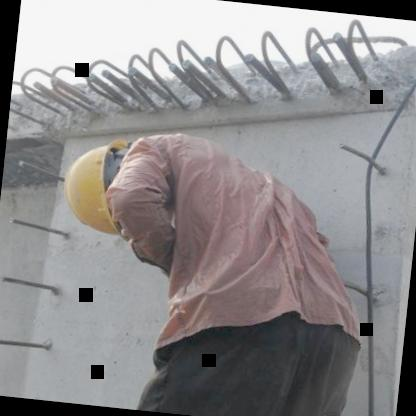helmet: (46, 128, 169, 242)
